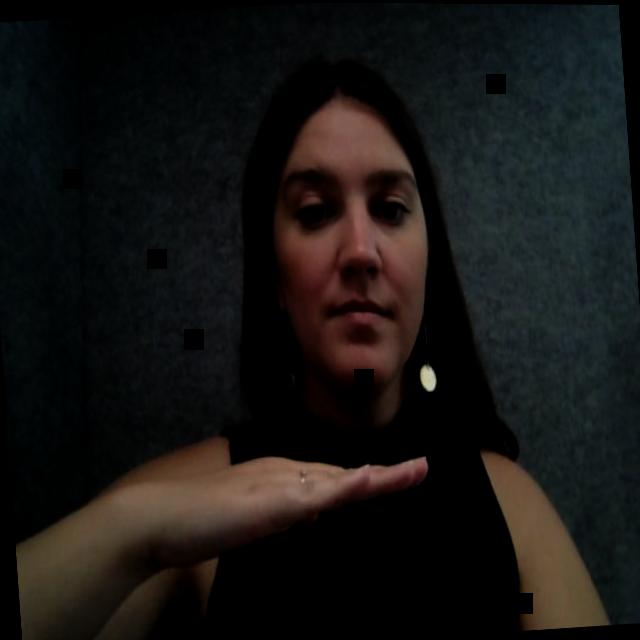Paper: (156, 414, 435, 582)
